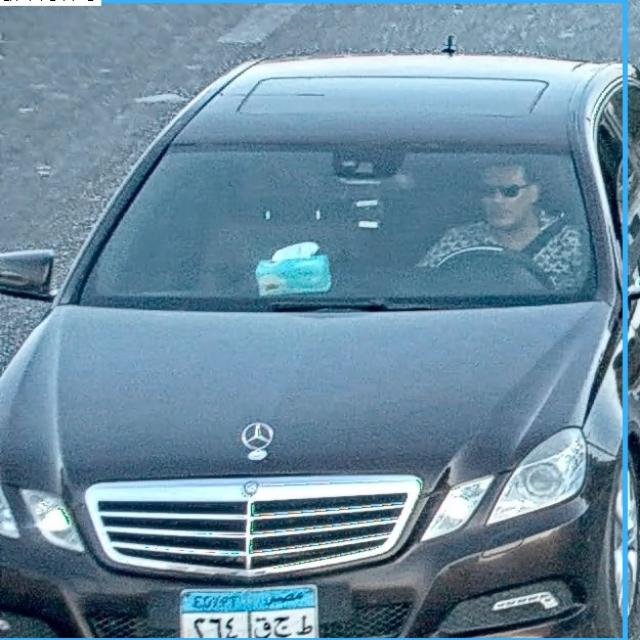windshield: (71, 143, 588, 294)
